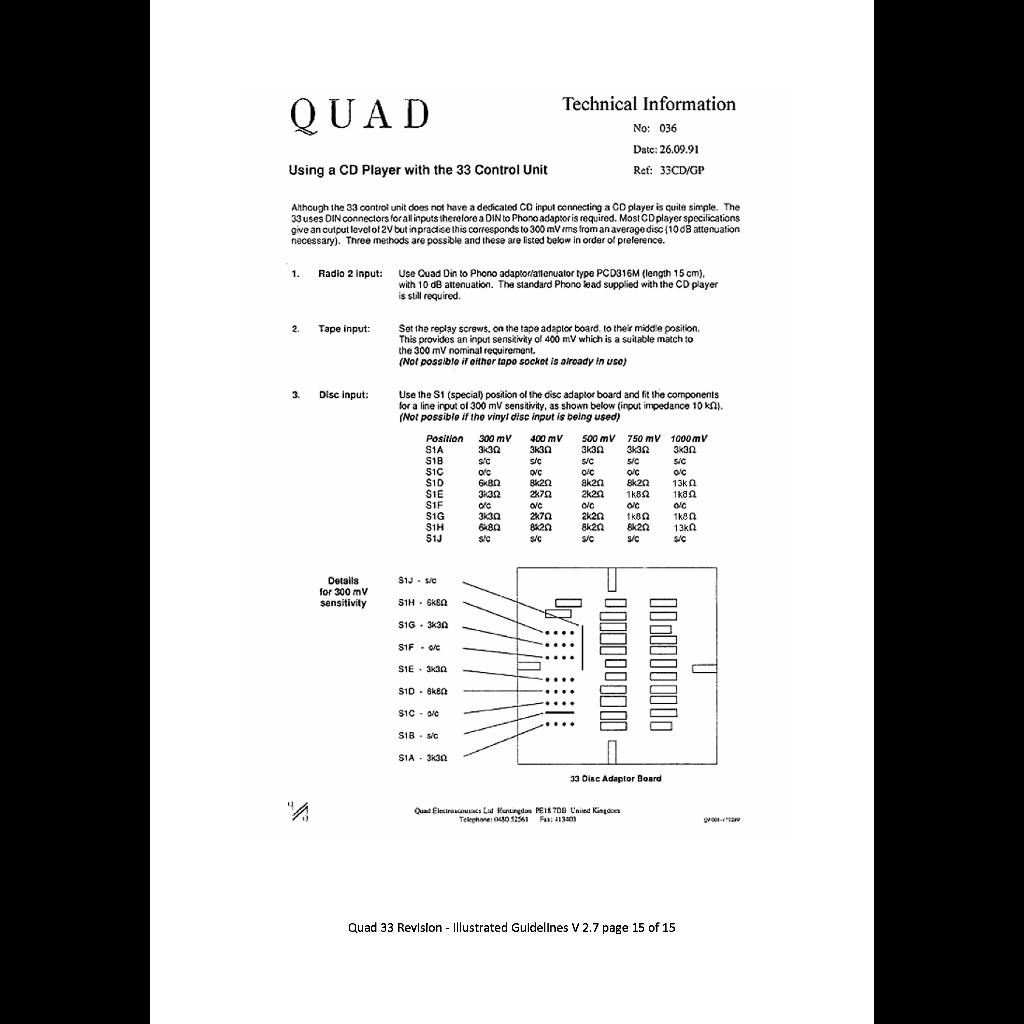Board: (390, 568, 724, 790)
Table: (414, 429, 712, 551)
